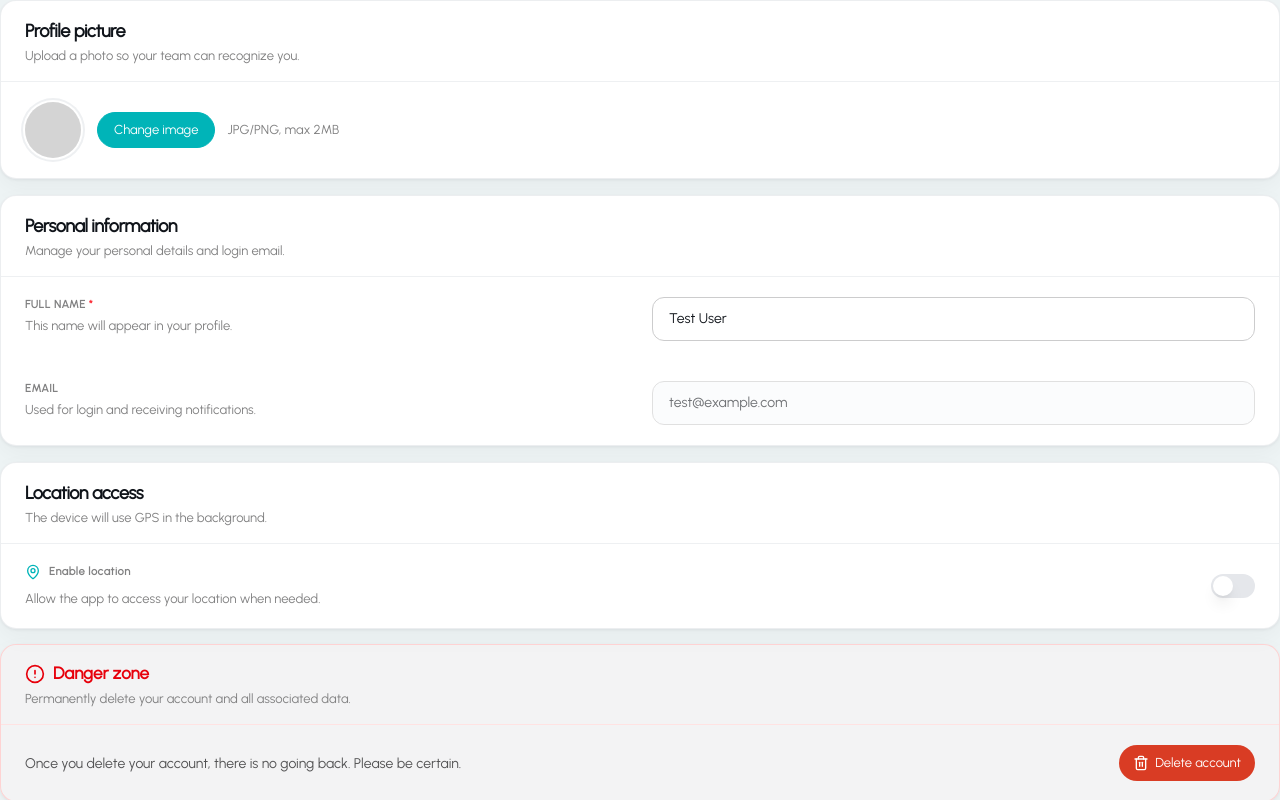
Test: AccountTab › Save Changes › should show error message on save failure
This screenshot has width=1280, height=800.
Replace the text in the field showing "Test User" in the row of "This name will appear in your profile." with "New Name": (954, 319) [652,297,1255,341]
(page scrolled)
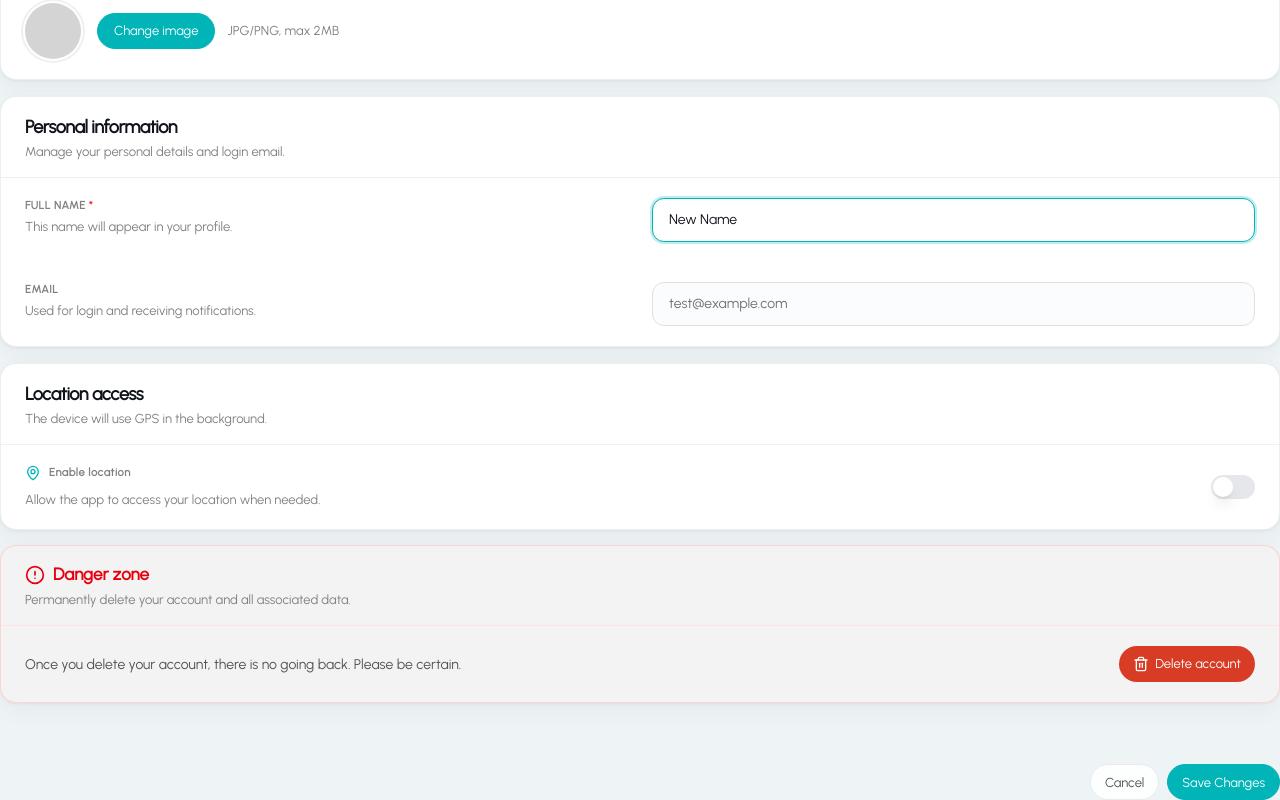
Click the button "Save Changes": (1224, 782) [1167,764,1279,799]
(page scrolled)
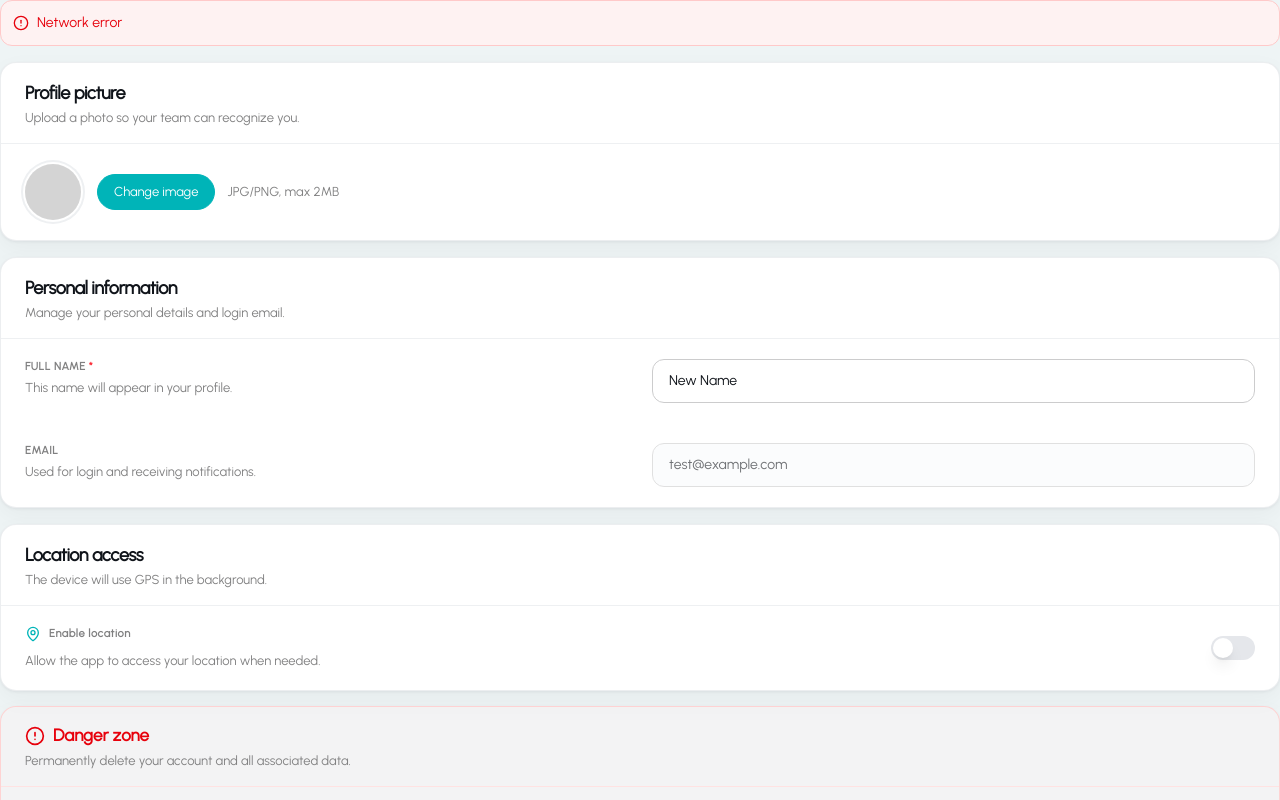
Expected: the text "Network error" is shown, [37,13,122,33]
